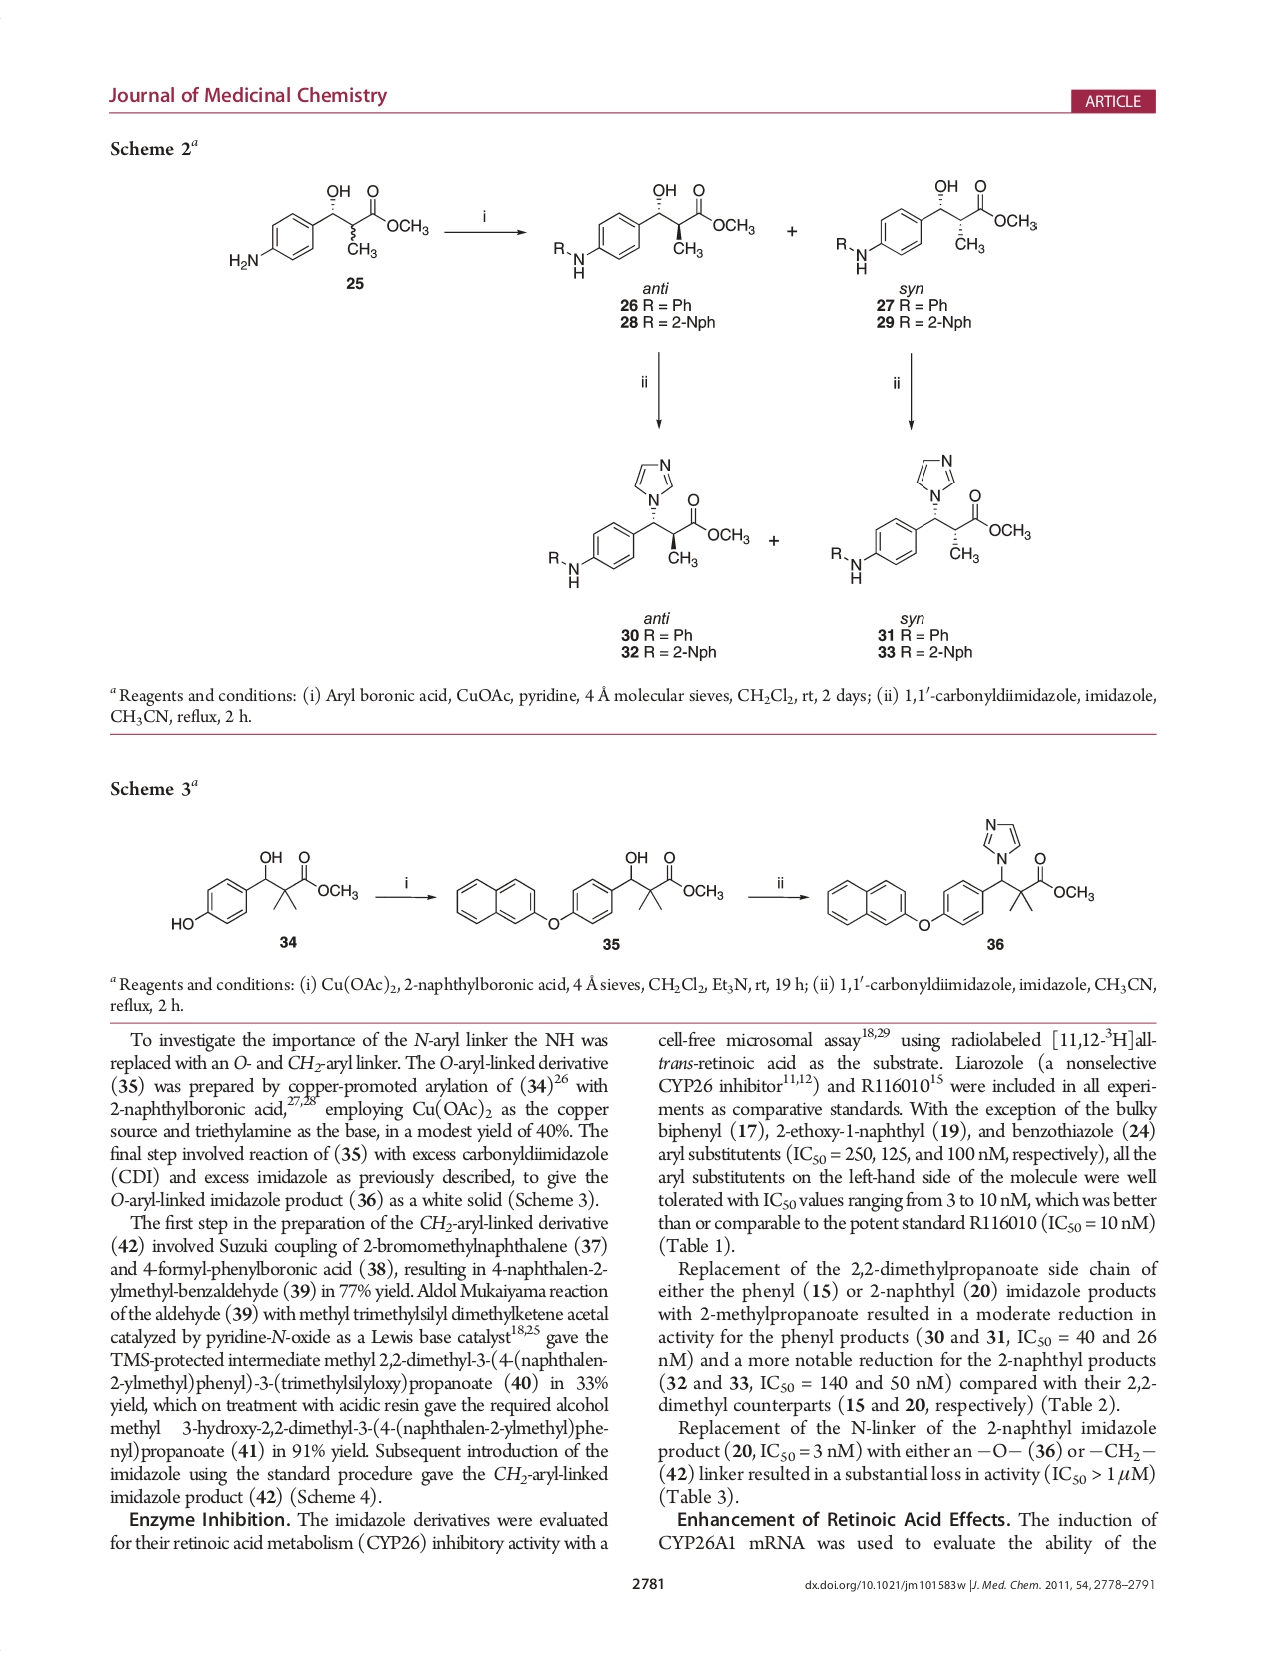exist_molecular: (822, 815, 1096, 938), (821, 449, 1035, 590), (539, 457, 753, 594), (451, 842, 726, 934), (831, 174, 1040, 281), (548, 180, 757, 281), (225, 180, 435, 273), (169, 842, 364, 932)
